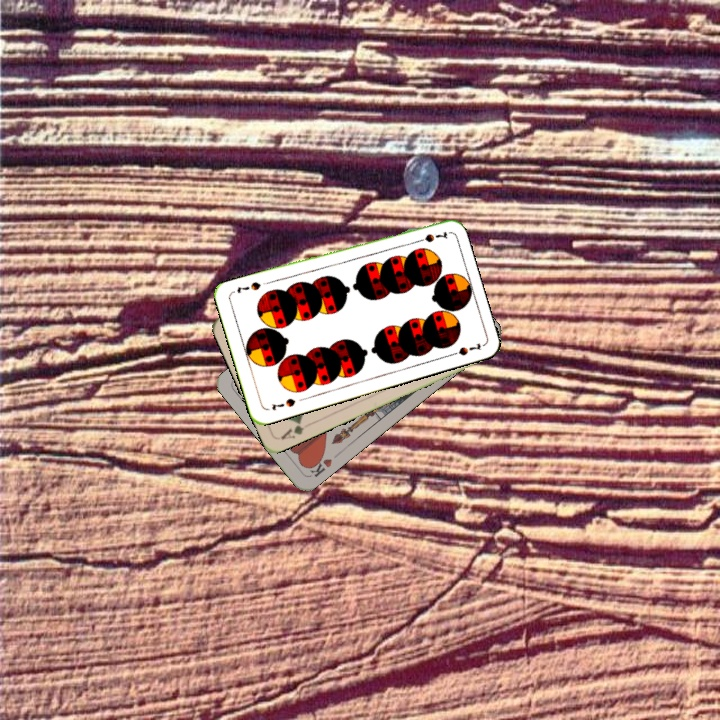GA: (277, 416, 307, 442)
HK: (303, 451, 335, 479)
S7: (410, 227, 450, 246), (268, 394, 298, 413)
